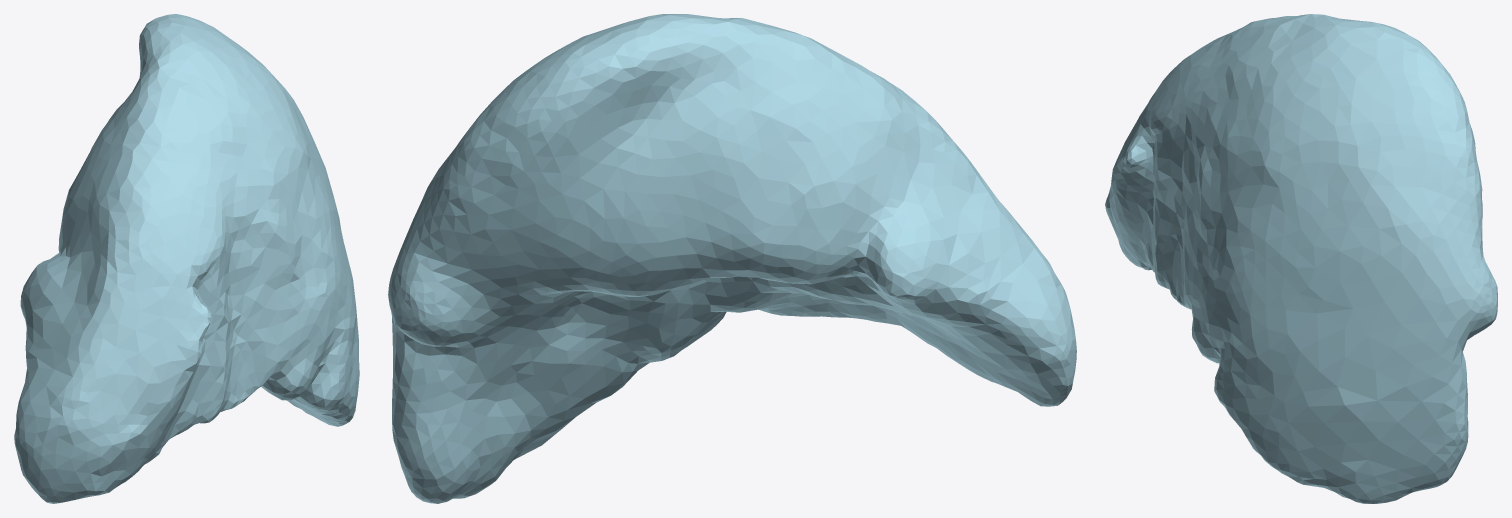
Rendered from spleen.obj.
3 views of the same model, side by side, from view 1: azimuth 30°, elevation 25°; view 2: azimuth 150°, elevation 25°; view 3: azimuth 270°, elevation 25° (orthographic). The views are drawn at different scales.
Visible parts, largest first — view 1: grp1; view 2: grp1; view 3: grp1.
Boxes of the visible parts, left/top/right/bottom form: grp1: left=14, top=14, right=359, bottom=503; grp1: left=388, top=14, right=1076, bottom=503; grp1: left=1105, top=14, right=1497, bottom=503.
Bounding box in the file's own units: 105 × 98.7 × 86.17.
